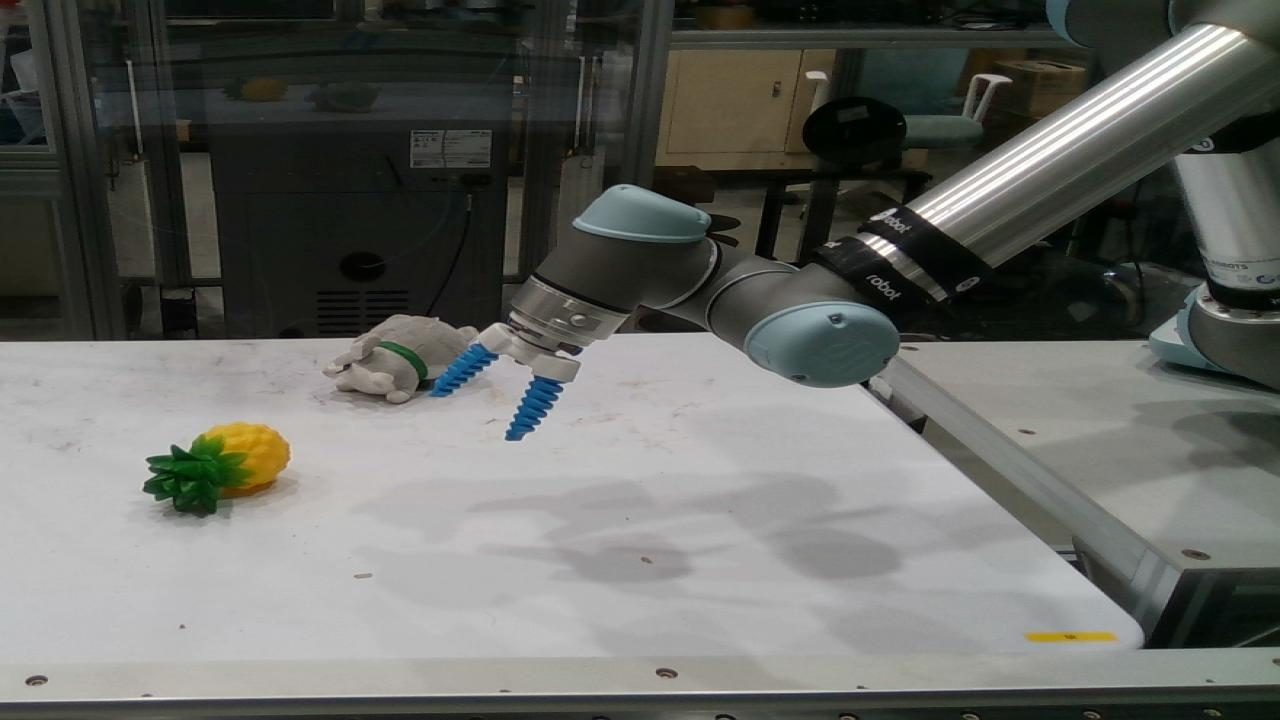UR5: (479, 0, 1279, 390)
gripper_left: (429, 343, 497, 397)
gripper_right: (510, 379, 560, 440)
target: (323, 314, 477, 403), (146, 424, 286, 514)
